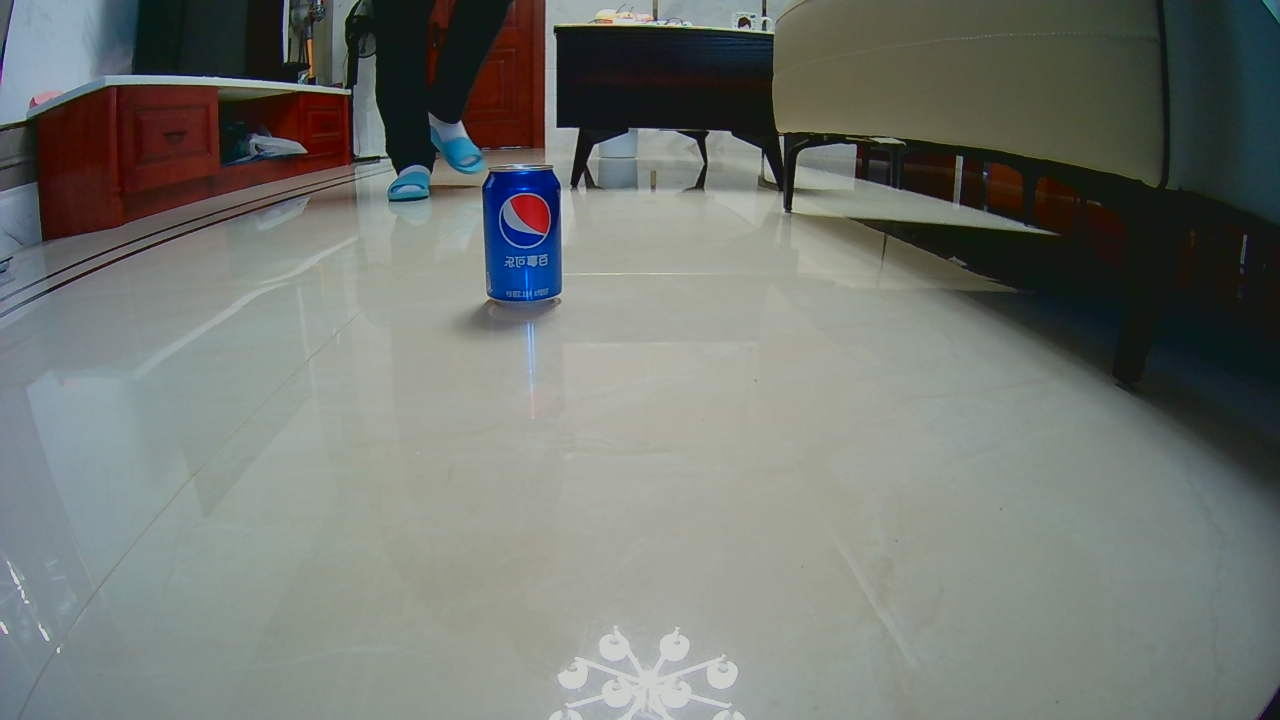pessi: (484, 174, 560, 301)
